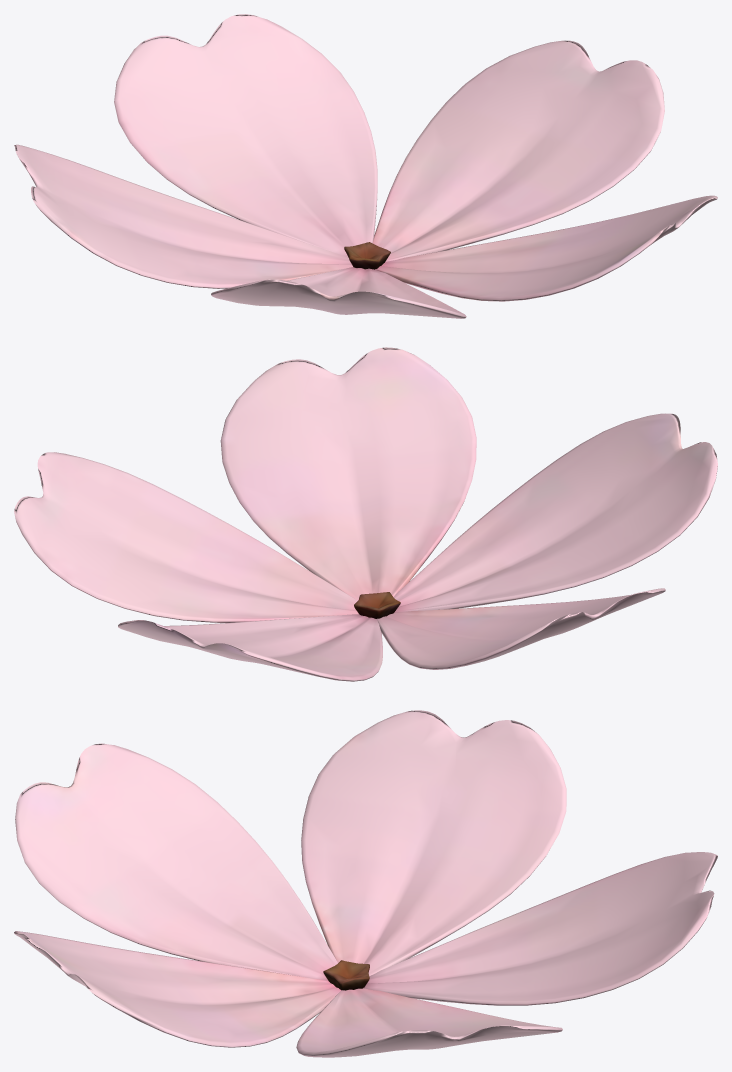
File: cartoon_sakura.glb
3 renders of one model, top to bottom at view 1: azimuth 30°, elevation 25°; view 2: azimuth 150°, elevation 25°; view 3: azimuth 270°, elevation 25°, orthographic. The views are drawn at different scales.
Visible parts, largest first — view 1: Sakura_Sakura_Material_0; view 2: Sakura_Sakura_Material_0; view 3: Sakura_Sakura_Material_0.
Boxes of the visible parts, x1,y1,x2,y2 form: Sakura_Sakura_Material_0: (14,14,717,318); Sakura_Sakura_Material_0: (14,347,717,681); Sakura_Sakura_Material_0: (14,710,717,1057).
Bounding box in the file's own units: 0.0933 × 0.0195 × 0.0899.
Materials: 1 (1 with a texture image).
